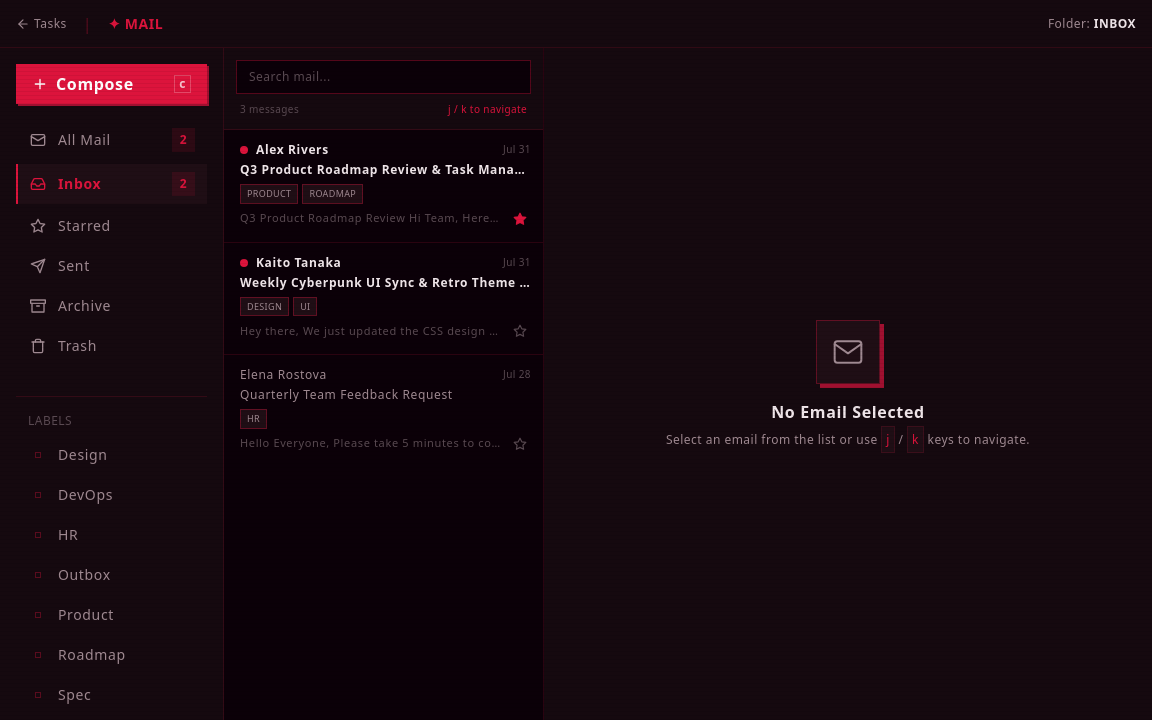
Test case: Empirical Adversarial Stress Suite for Mail (Milestone 1) › Check 1: Folder Filtering Across All Folders › unstarring an email while viewing Starred folder updates selectedId to a valid remaining starred email
Switch to Starred folder
Click the button "Starred".
click(112, 226)  # box [16,208,207,244]
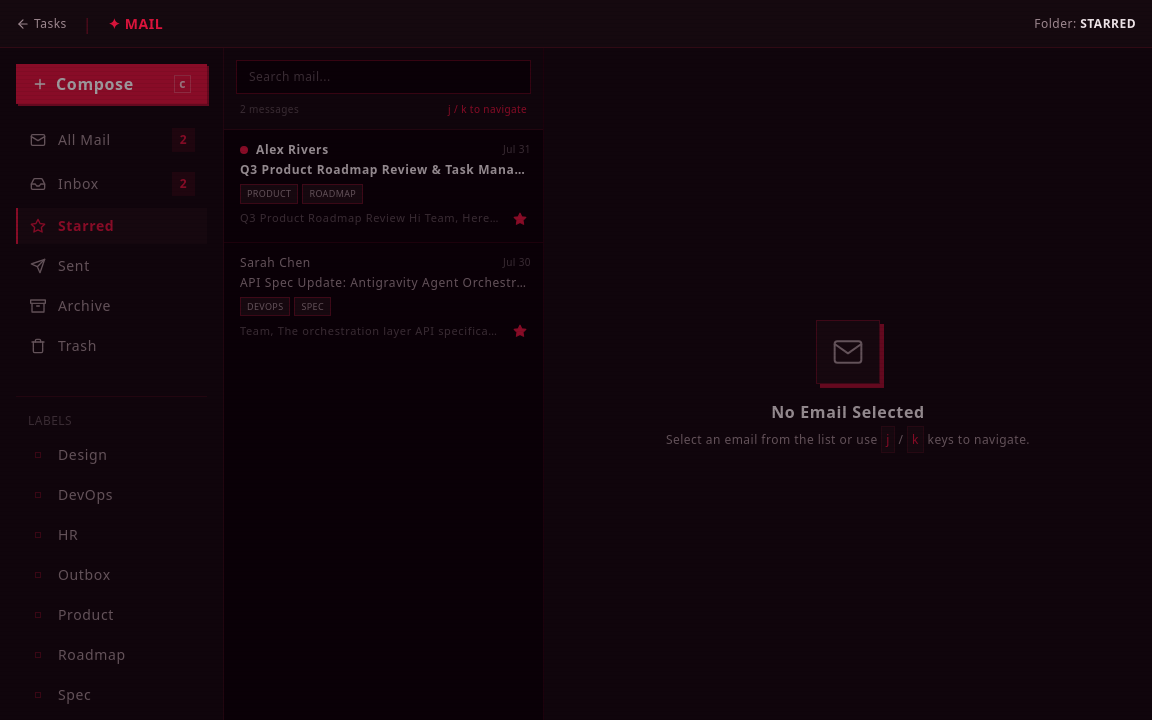
Click the text "Q3 Product Roadmap Review & Task Management".
click(386, 170)  # box [240,162,531,178]
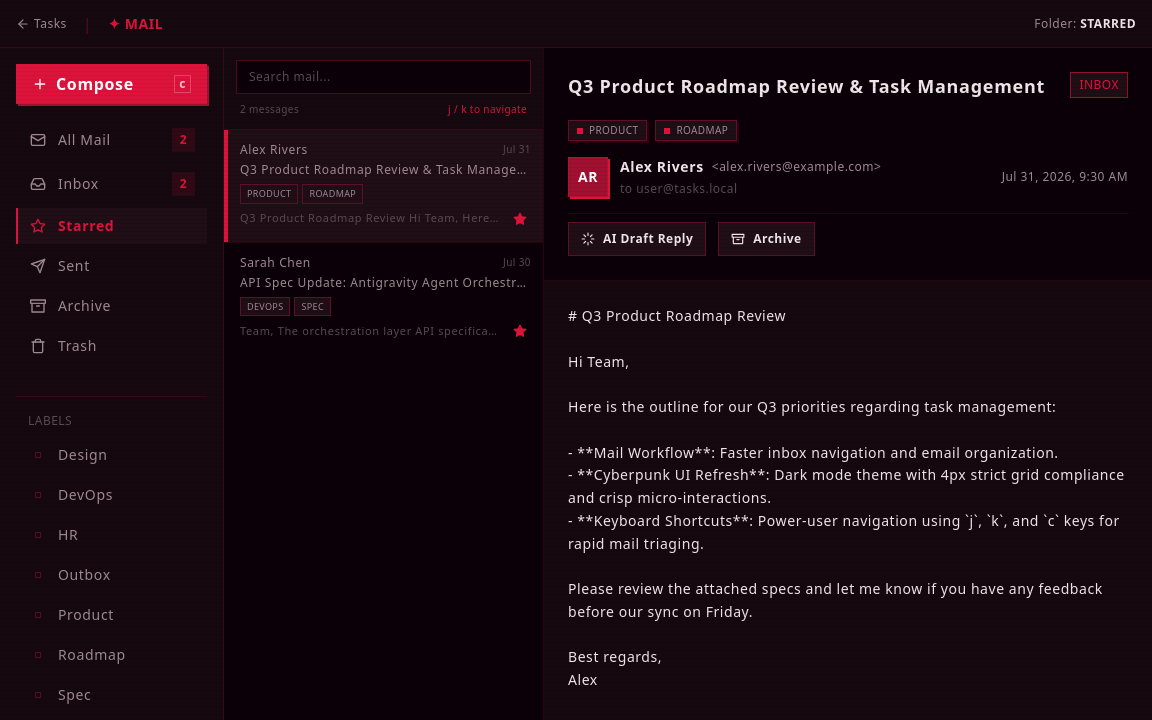
Unstar the first starred email
Click the 1st button named "Unstar email".
click(520, 218)  # box [509,208,531,230]
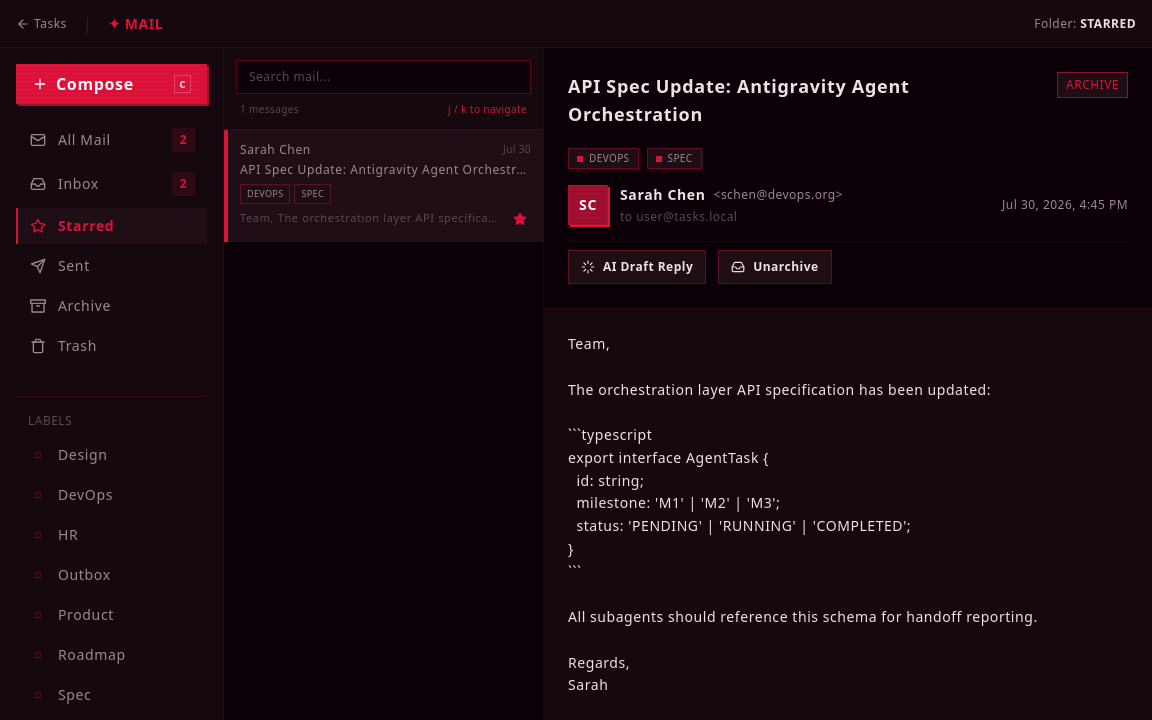
Check: the heading "API Spec Update: Antigravity Agent Orchestration" is shown, box [568,74,910,126]
